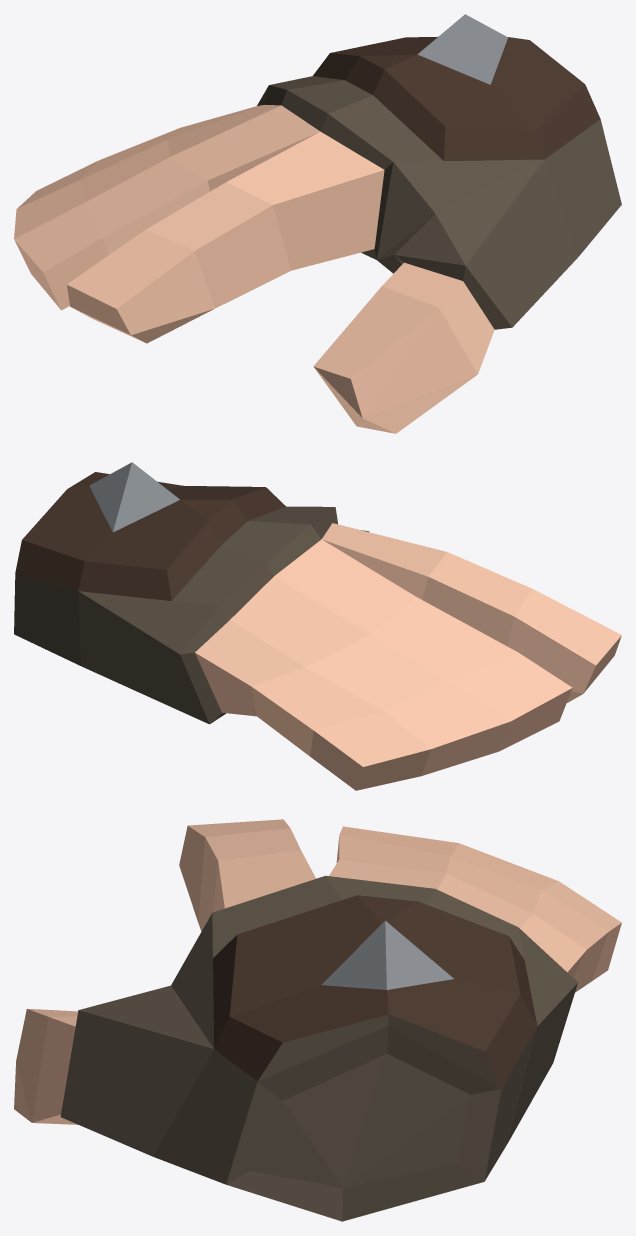
File: Chr_HandRight_Female_02_Static.fbx
3 renders of one model, top to bottom at view 1: azimuth 30°, elevation 25°; view 2: azimuth 150°, elevation 25°; view 3: azimuth 270°, elevation 25°, orthographic. The views are drawn at different scales.
Parts seen in each view (by area): view 1: Chr_HandRight_Female_02_Static; view 2: Chr_HandRight_Female_02_Static; view 3: Chr_HandRight_Female_02_Static.
Part boxes in pixels (x1,y1,x2,y2): Chr_HandRight_Female_02_Static: (14,14,621,433); Chr_HandRight_Female_02_Static: (14,462,621,790); Chr_HandRight_Female_02_Static: (14,819,621,1221).
Size of the model in its own units: 0.237 by 0.1165 by 0.188.
